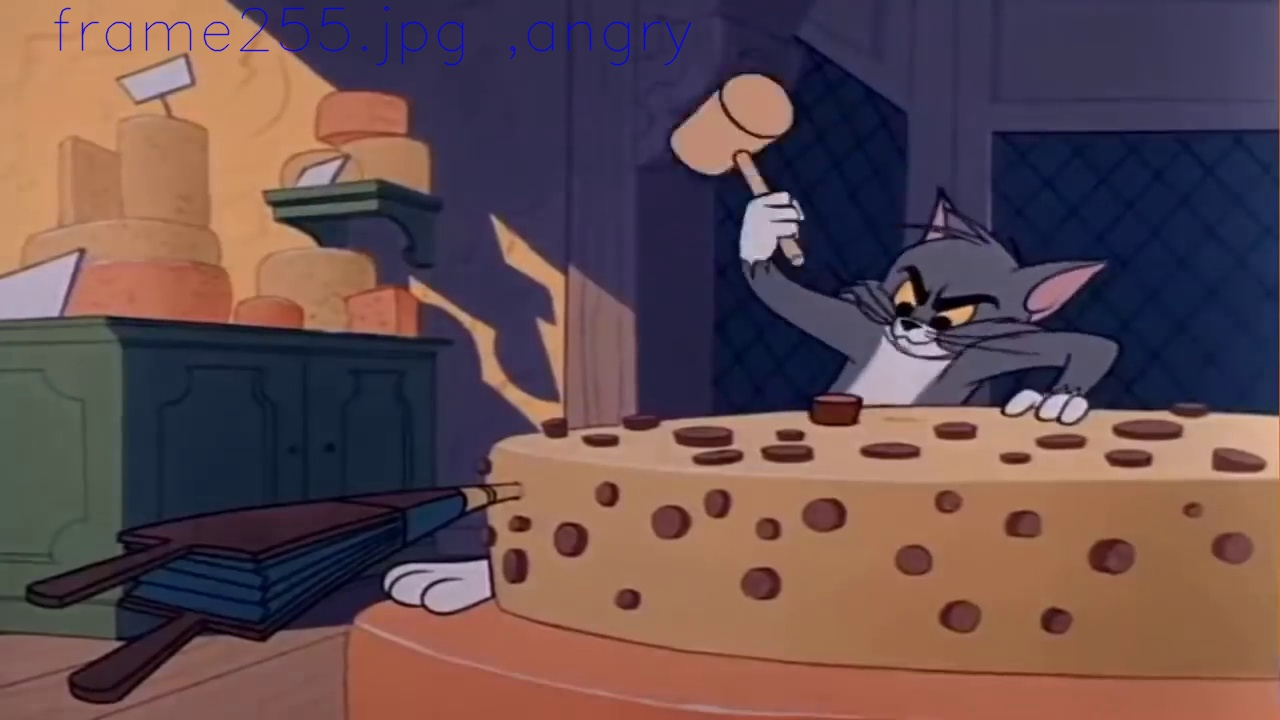angry: (889, 262, 999, 356)
